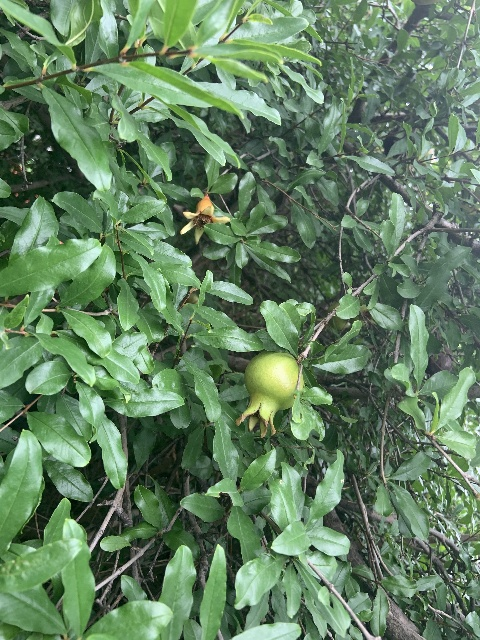early-fruit: (180, 193, 230, 245)
mid-growth: (234, 352, 303, 437)
